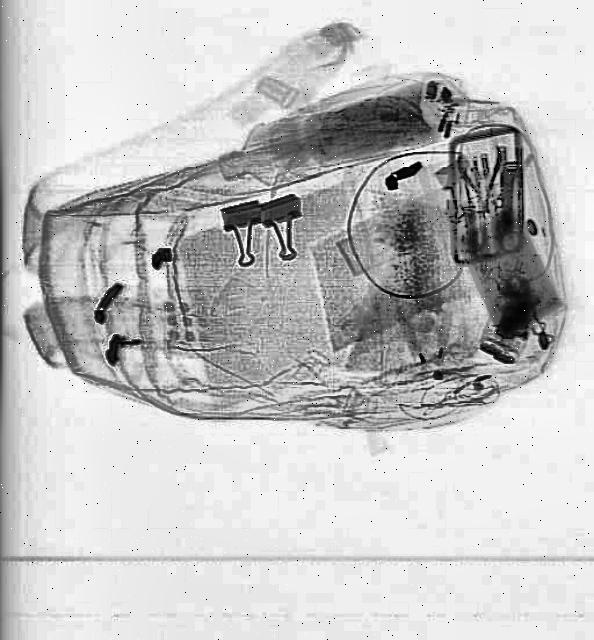Pliers: (455, 146, 509, 227)
